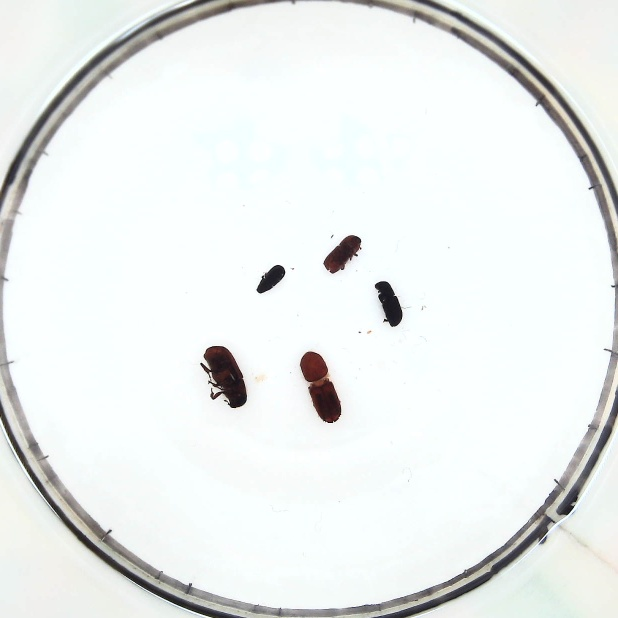armandi: (372, 279, 404, 327)
boerner: (298, 349, 341, 424)
coleoptera: (256, 264, 285, 292)
leconte: (199, 343, 250, 410)
linnaeus: (321, 234, 362, 274)
